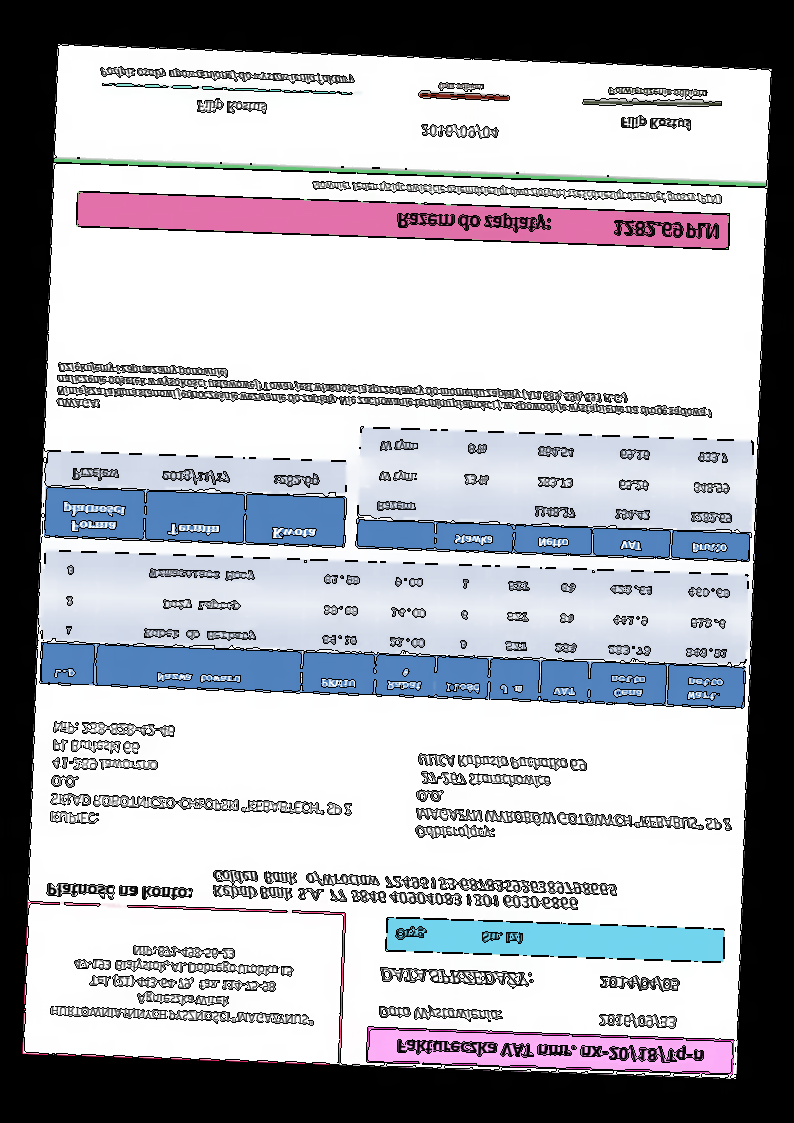Table: (39, 547, 751, 712), (354, 424, 755, 564), (42, 449, 347, 548)
TextBox: (53, 359, 716, 435), (46, 716, 357, 839), (412, 748, 739, 852), (45, 938, 318, 1028), (209, 865, 620, 914), (307, 177, 722, 210), (394, 207, 722, 246), (391, 1035, 706, 1066), (97, 62, 360, 88), (376, 963, 534, 993), (40, 878, 194, 905), (390, 923, 526, 950), (373, 1002, 504, 1029), (595, 971, 682, 997), (418, 121, 502, 146), (606, 84, 709, 102), (616, 114, 697, 136), (192, 96, 268, 119), (595, 1011, 678, 1031), (432, 79, 489, 96)
